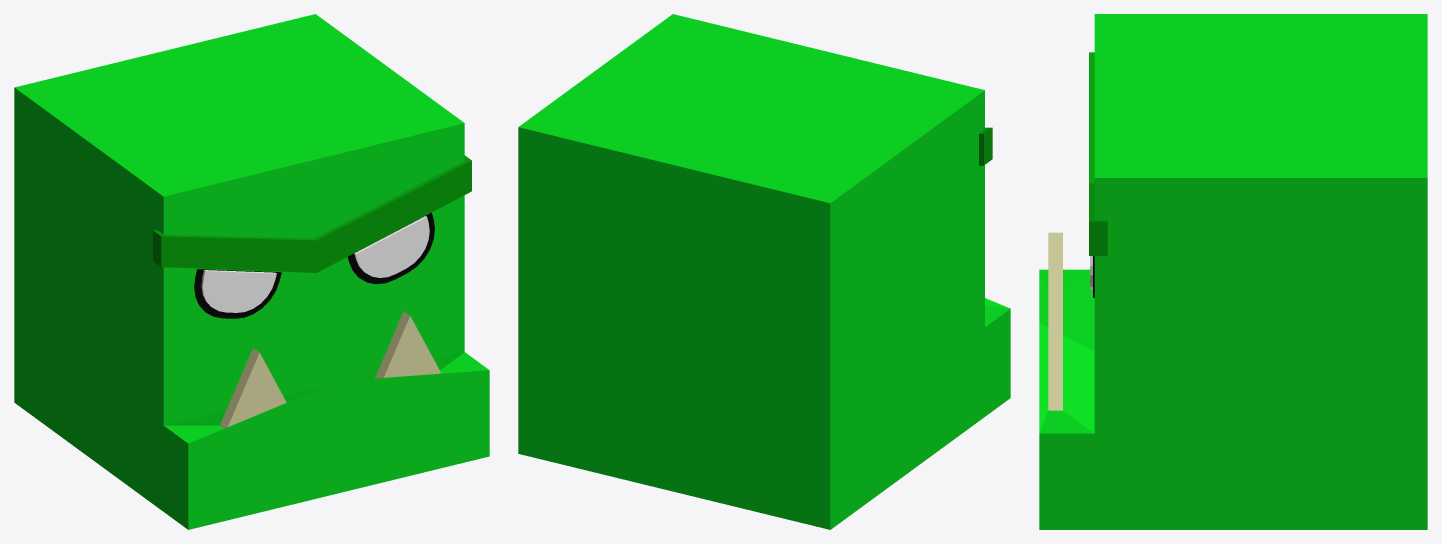
File: Goblin_01.fbx
3 views of the same model, side by side, from view 1: azimuth 30°, elevation 25°; view 2: azimuth 150°, elevation 25°; view 3: azimuth 270°, elevation 25° (orthographic). The views are drawn at different scales.
Visible parts, largest first — view 1: Cube; view 2: Cube; view 3: Cube.
Boxes of the visible parts, bbox=[...] form: Cube: bbox=[14, 14, 489, 529]; Cube: bbox=[518, 14, 1010, 529]; Cube: bbox=[1039, 14, 1427, 529].
Bounding box in the file's own units: 61.87 × 60 × 60.
